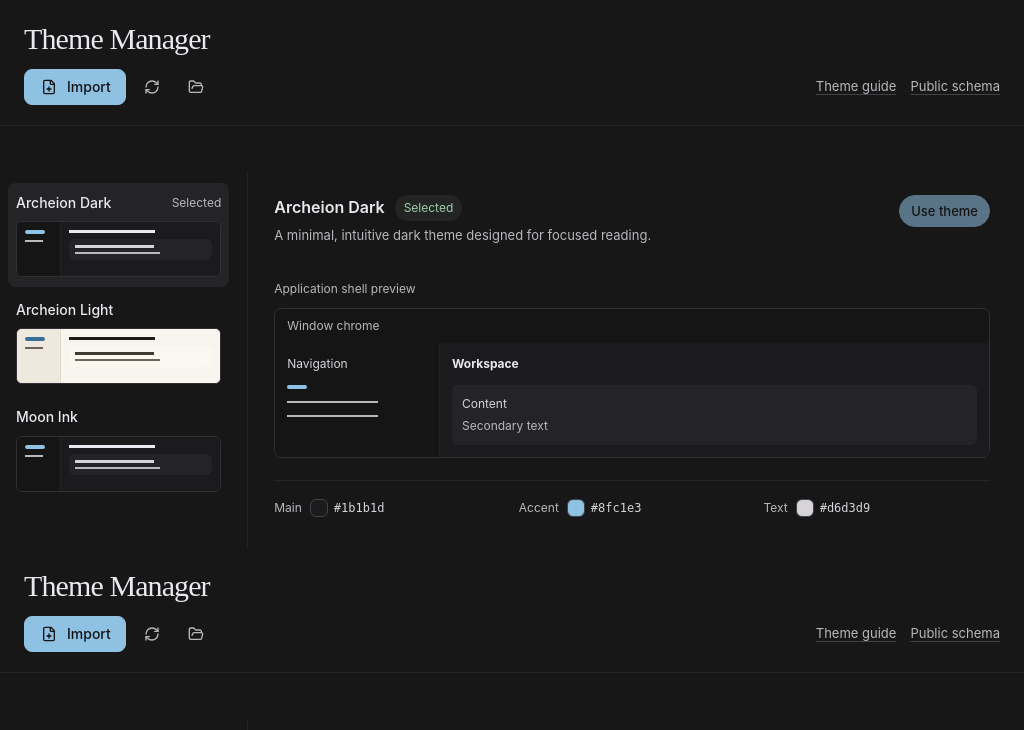
Scenario: ThemeManagerSurface preview ownership › keeps preview state within the manager surface that started it
The width and height of the screenshot is (1024, 730).
Click the button "Moon Ink" at (119, 450), box left=8, top=397, right=229, bottom=502
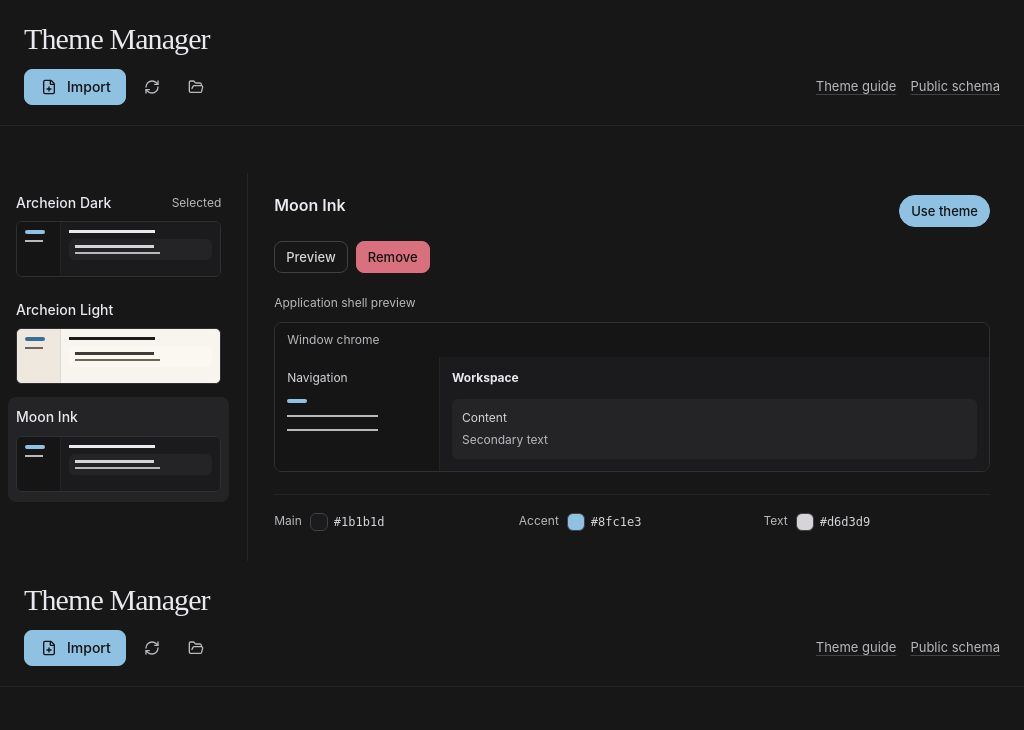
Click the button "Preview" at (311, 257), box left=274, top=241, right=348, bottom=273
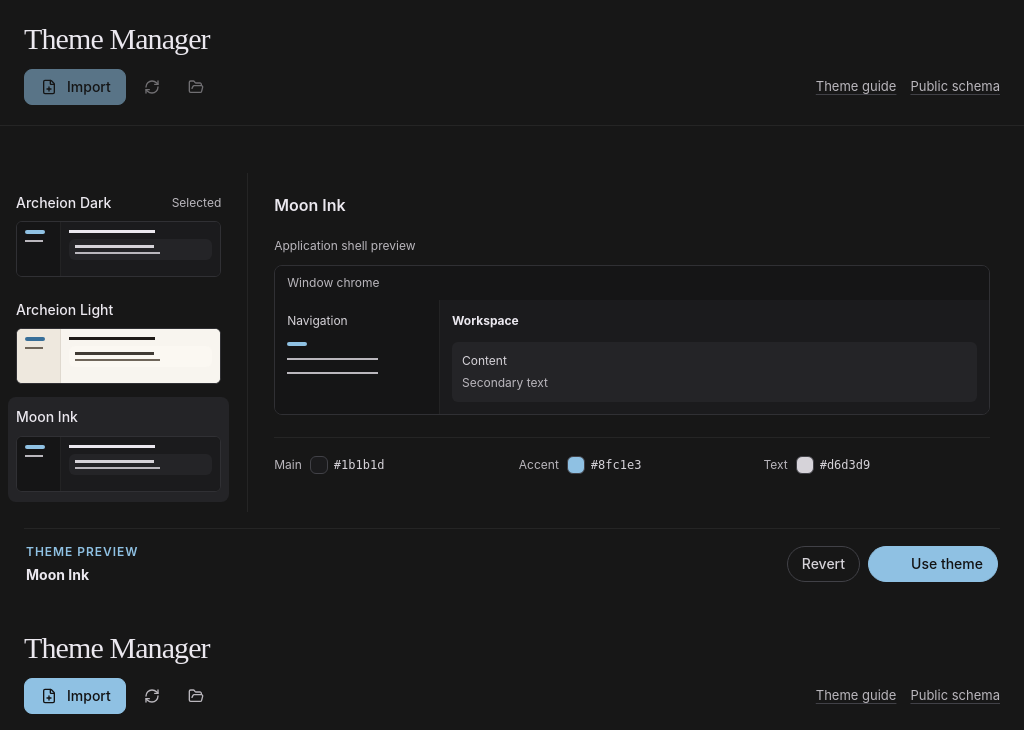
Expected: the element with class "theme-preview-controls" is shown, left=24, top=528, right=1000, bottom=585
